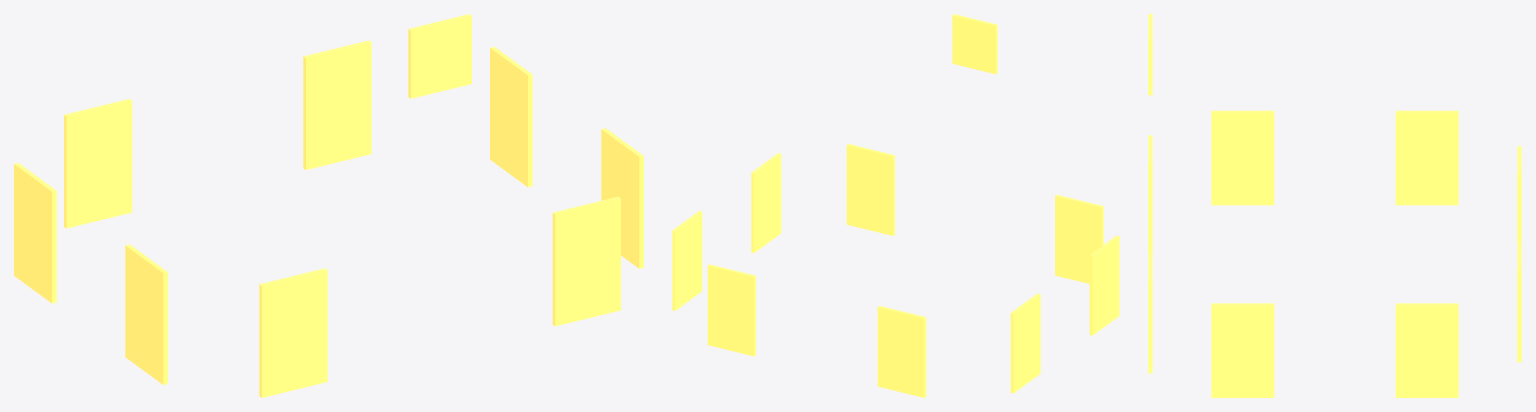
Rendered from CandyHouse_Gingerbread_Glow.glb.
3 renders of one model, left to right at view 1: azimuth 30°, elevation 25°; view 2: azimuth 150°, elevation 25°; view 3: azimuth 270°, elevation 25°, orthographic. The views are drawn at different scales.
Parts seen in each view (by area): view 1: CandyHouse_Gingerbread_Glow; view 2: CandyHouse_Gingerbread_Glow; view 3: CandyHouse_Gingerbread_Glow.
Boxes of the visible parts, bbox=[...] form: CandyHouse_Gingerbread_Glow: bbox=[14, 14, 643, 397]; CandyHouse_Gingerbread_Glow: bbox=[672, 14, 1119, 397]; CandyHouse_Gingerbread_Glow: bbox=[1148, 14, 1521, 397].
Bounding box in the file's own units: 21.2 × 13.95 × 17.2.
